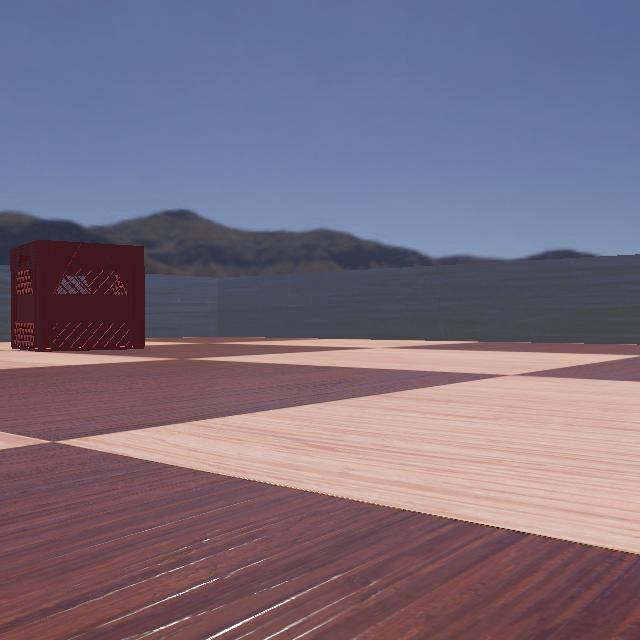plastic-crate: (0, 239, 162, 351)
